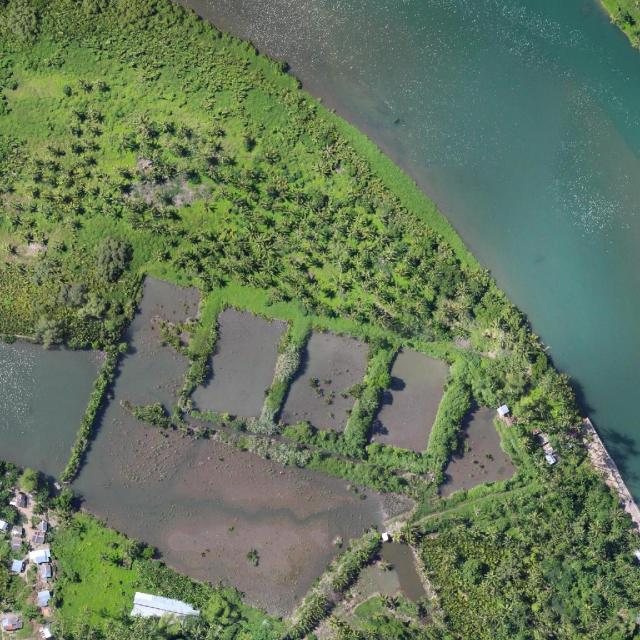greenland: (0, 610, 24, 634)
wetland: (0, 339, 104, 480), (189, 303, 290, 429), (278, 323, 375, 442), (371, 346, 452, 456), (423, 404, 516, 498)
